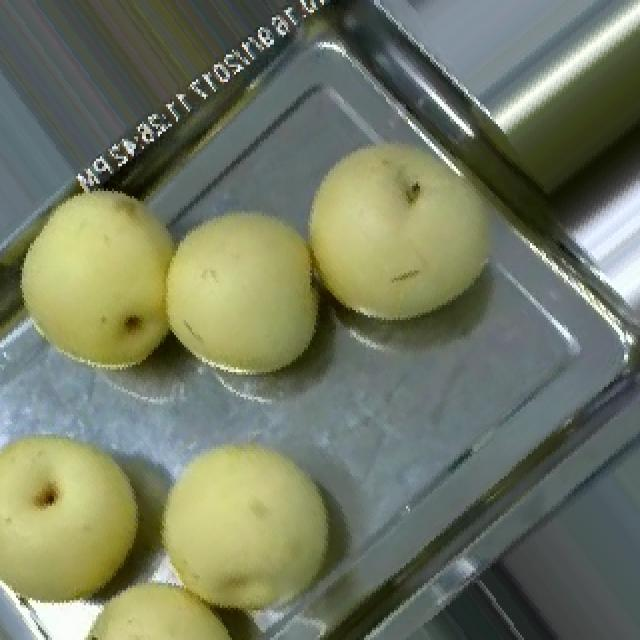Fruit: (282, 112, 522, 337), (134, 412, 366, 640), (0, 154, 208, 394), (154, 176, 344, 397), (0, 404, 162, 640)
